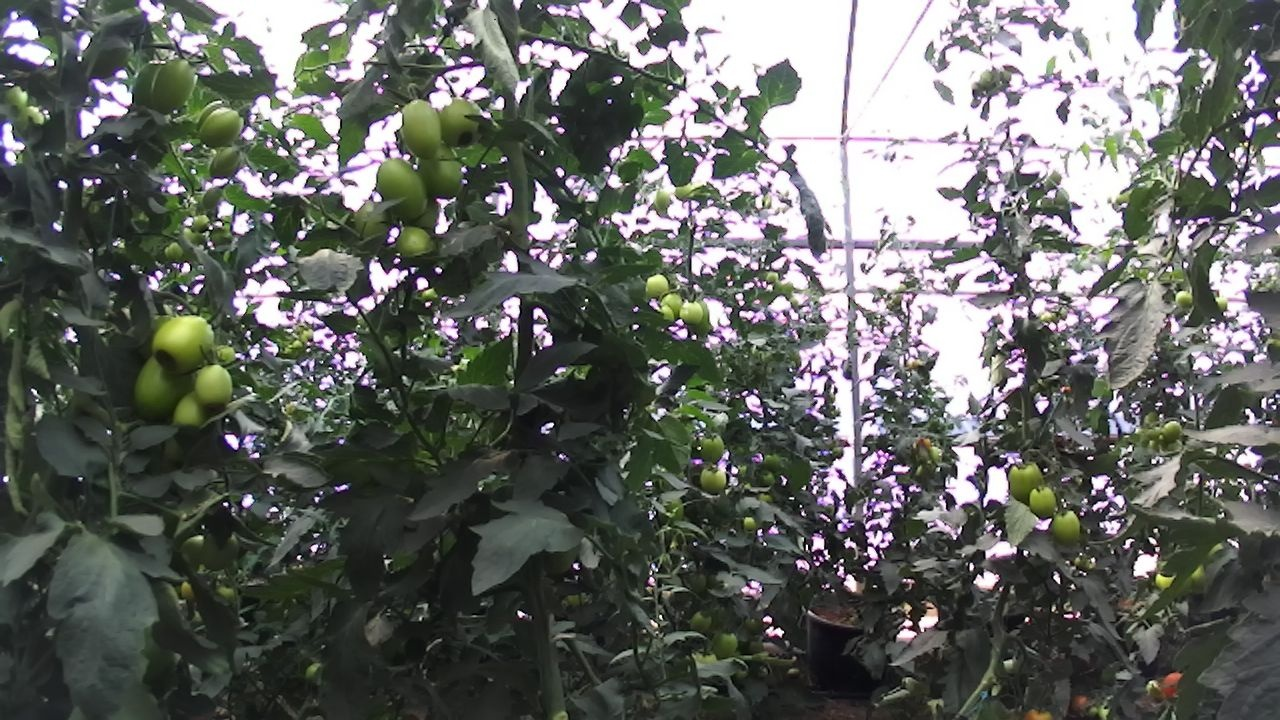tomato: (143, 304, 225, 377), (127, 343, 194, 427), (369, 152, 437, 229), (409, 137, 474, 207), (394, 90, 454, 165), (142, 49, 202, 124), (433, 89, 493, 155), (1000, 453, 1060, 515), (193, 98, 254, 158), (128, 49, 177, 122), (186, 355, 244, 416), (347, 193, 400, 251), (391, 219, 445, 273), (167, 382, 213, 443), (194, 523, 244, 576), (206, 134, 249, 184), (1046, 502, 1089, 552), (1024, 480, 1064, 523), (9, 101, 47, 145), (693, 429, 733, 470), (696, 461, 734, 501), (0, 77, 34, 121), (655, 286, 692, 325), (709, 624, 745, 664), (1156, 664, 1190, 701), (641, 269, 676, 303), (676, 295, 707, 329), (687, 604, 716, 637), (199, 182, 229, 211), (1157, 415, 1185, 446), (653, 184, 678, 215), (670, 179, 698, 206), (1209, 289, 1233, 319), (1171, 285, 1198, 311), (738, 509, 765, 534), (189, 211, 213, 235), (762, 449, 784, 473), (165, 240, 186, 263), (757, 467, 778, 487), (762, 267, 782, 287)
